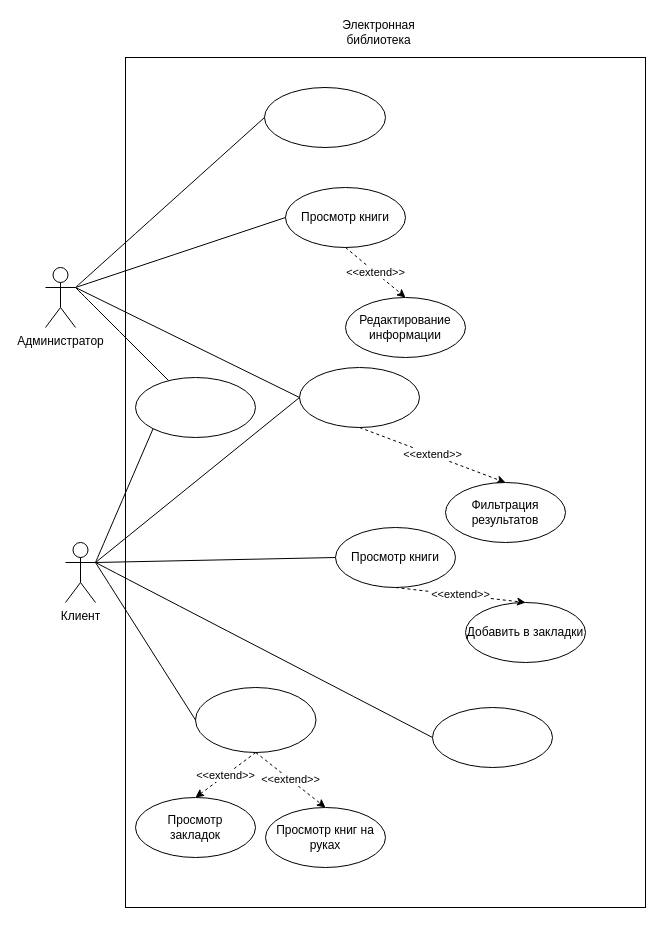
Image size: 663x925. Some labels were removed from this diagram. Here are the shapes that lost their labels. From the top down, the box of each, then its label:
(264, 86, 386, 148): Запросить статистику
(134, 376, 256, 438): Просмотр эл. каталога
(298, 366, 420, 428): Поиск
(194, 686, 316, 752): Просмотр личного кабинета
(432, 706, 552, 768): Бронирование книги
